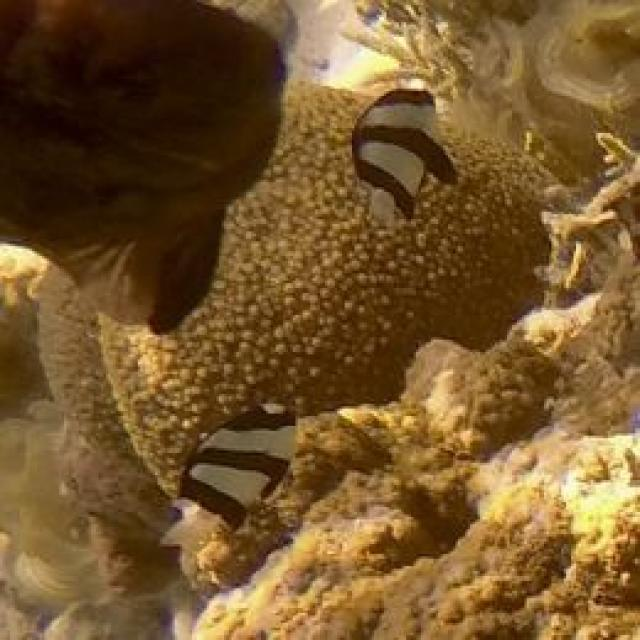ThreeStripedDamselfish: (350, 82, 459, 228)
